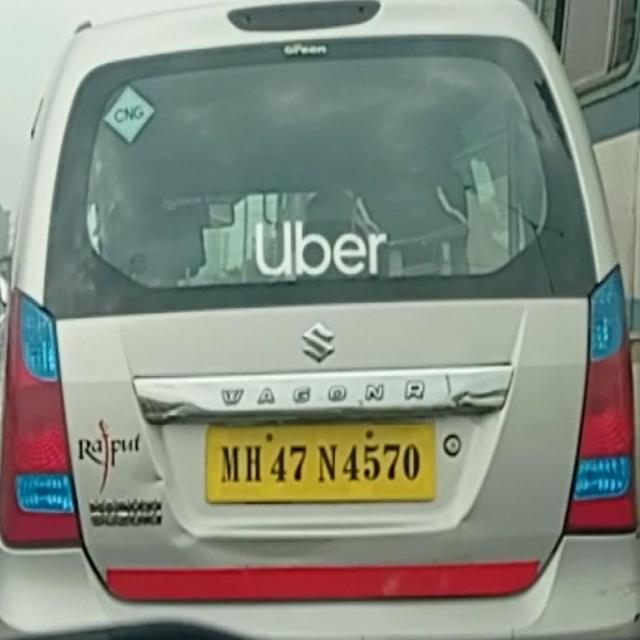license-plate: (204, 416, 439, 506)
